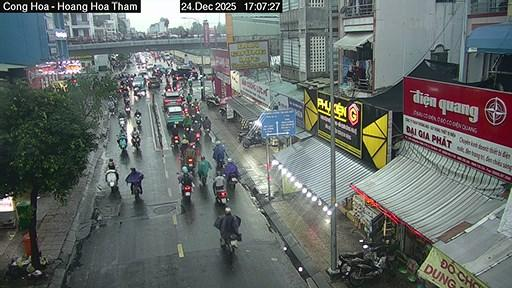motorbike: (336, 239, 381, 275), (348, 252, 385, 286), (243, 133, 265, 147), (105, 170, 117, 192), (224, 234, 236, 252), (214, 188, 227, 203), (205, 95, 220, 107), (236, 130, 249, 142), (182, 184, 191, 201), (185, 157, 194, 174), (227, 174, 236, 189), (131, 184, 140, 199), (131, 135, 140, 148), (192, 130, 199, 144), (172, 135, 179, 148), (108, 102, 115, 115), (118, 136, 125, 149), (134, 115, 140, 129), (216, 158, 223, 170), (199, 174, 207, 184), (124, 104, 130, 116), (218, 107, 226, 116), (202, 126, 209, 135), (118, 117, 123, 129)
